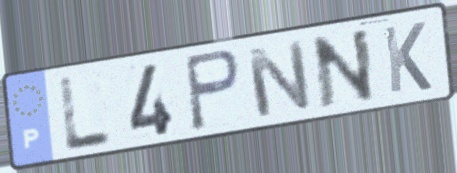4: (125, 59, 178, 140)
K: (380, 19, 435, 96)
L: (57, 73, 116, 154)
N: (308, 25, 378, 112), (243, 38, 315, 121)
P: (182, 46, 244, 134)
